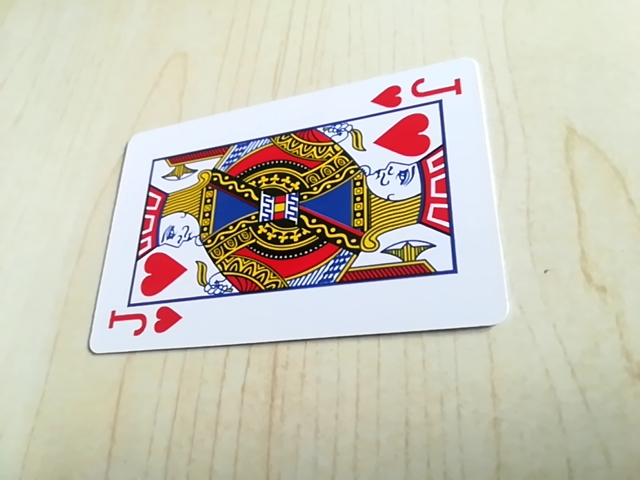hx j: (368, 71, 466, 112), (103, 300, 185, 347)
